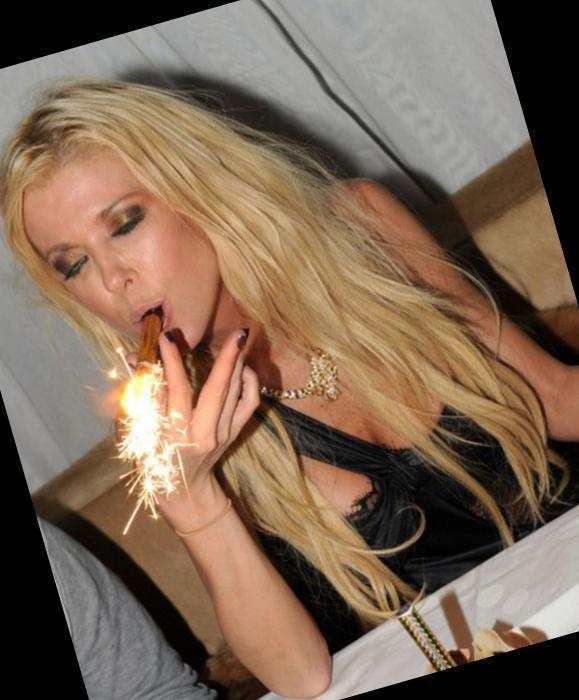Drunk: (23, 160, 213, 352)
